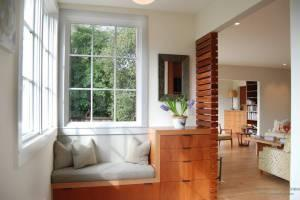window: (61, 12, 146, 127)
